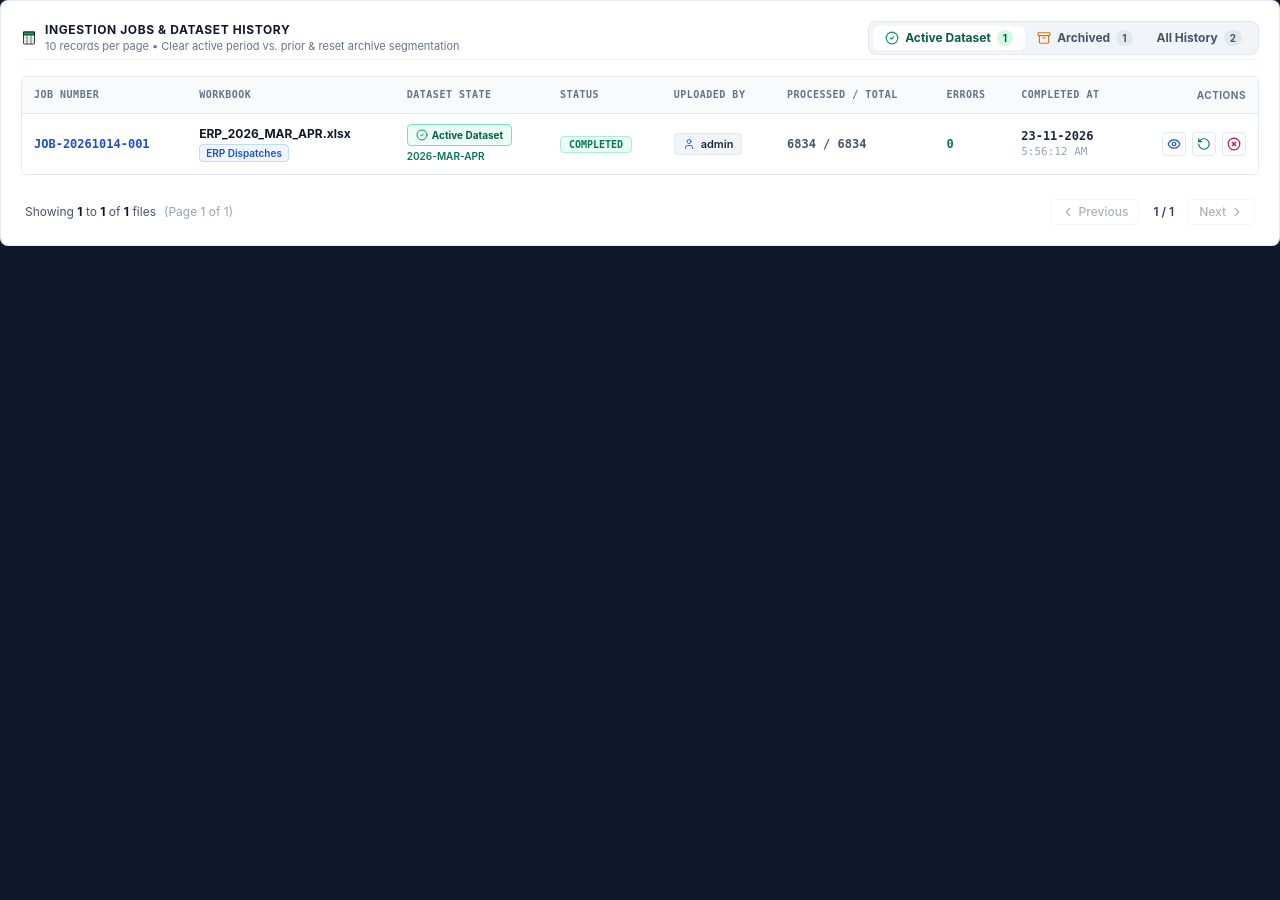
Test: RecentImports Revert & Archive Dataset Suite › renders Revert button for archived job and opens confirmation modal
This screenshot has width=1280, height=900.
Click the button "Archived 1". click: click(1085, 38)
box: [1025,26,1144,50]
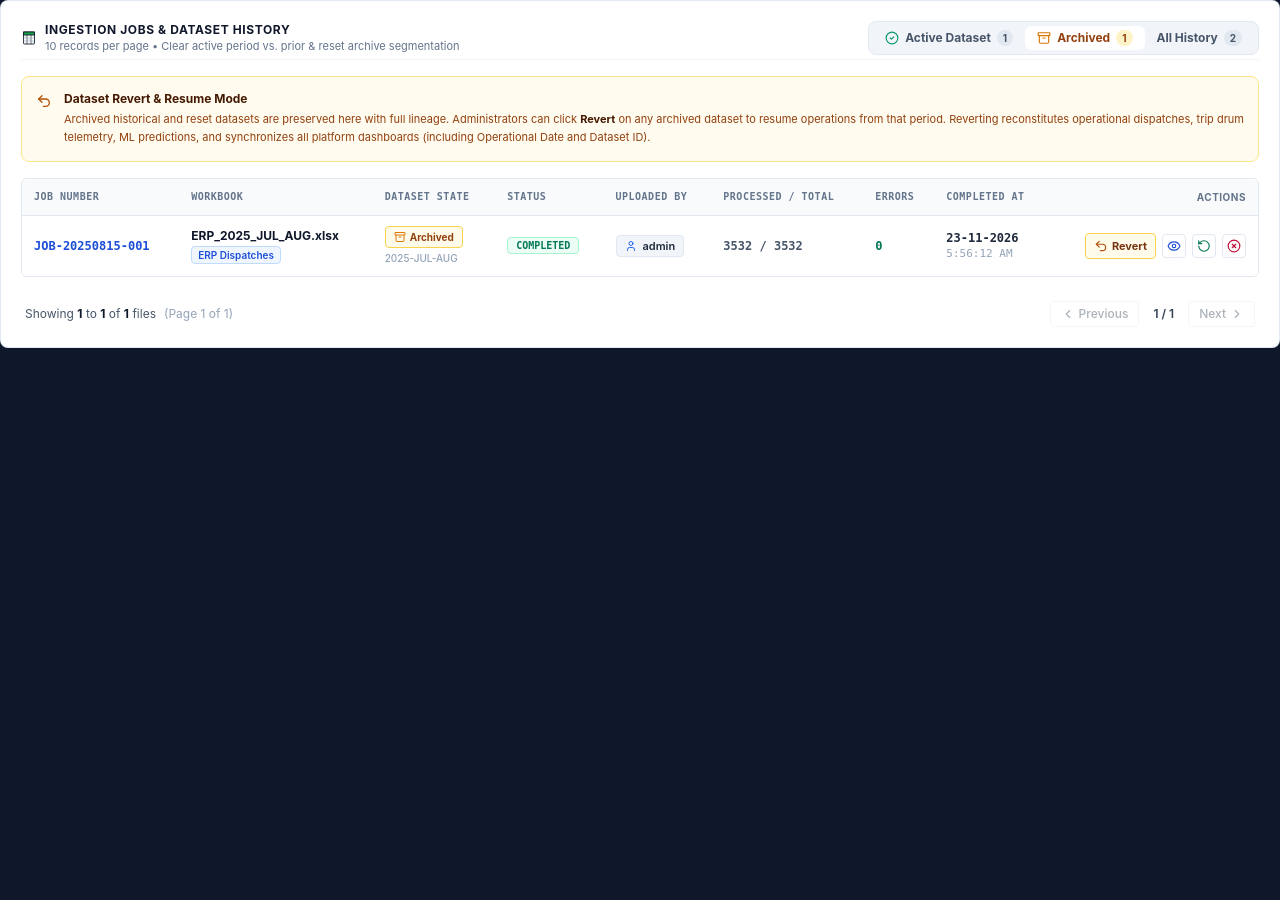
Check: the button "Revert" is shown
Click the button "Revert". click: click(1120, 246)
box: [1085,233,1156,259]
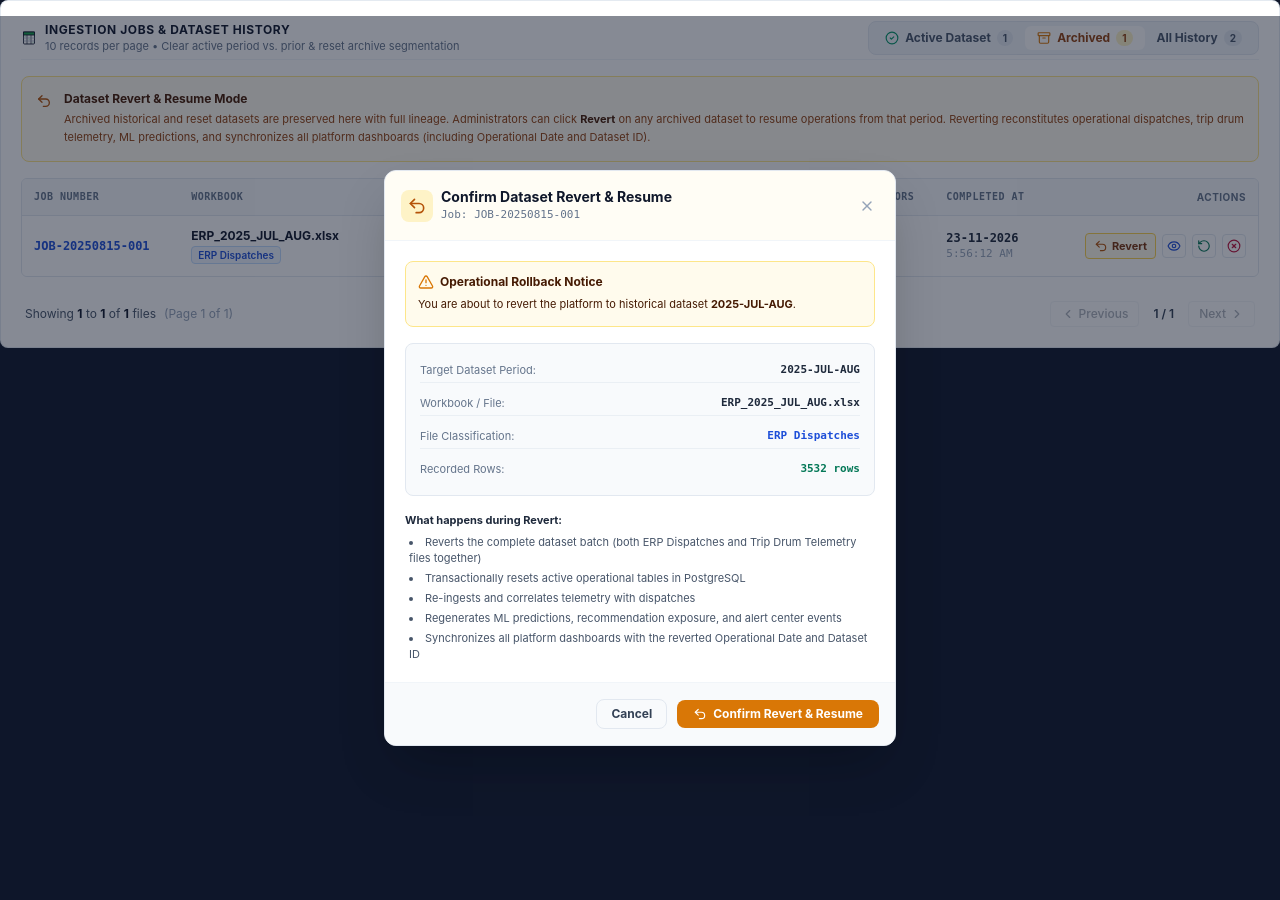
Check: the text "2025-JUL-AUG" in the row of "5:56:12 AM" is shown, box [385,252,458,264]
Check: the heading "Confirm Dataset Revert & Resume" is shown, box [441,187,672,207]
Check: the text "Operational Rollback Notice" is shown, box [440,274,603,290]
